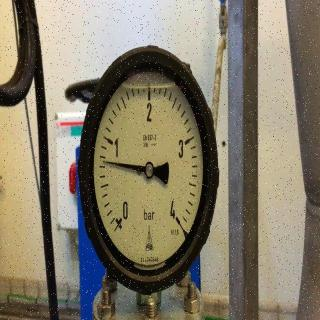gauge: (80, 39, 222, 304), (107, 201, 131, 236), (168, 212, 193, 241), (144, 161, 154, 179), (101, 158, 111, 166)
